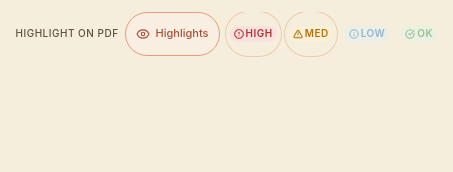
Test case: HighlightControls › disables the severity filters when highlights are hidden
The width and height of the screenshot is (453, 172).
Click the button with test id "highlight-toggle" at (172, 34), box left=124, top=12, right=220, bottom=56
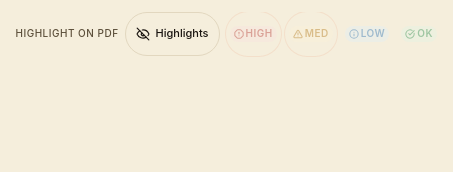
Expected: the button with test id "highlight-filter-high" is disabled, left=226, top=12, right=281, bottom=56
